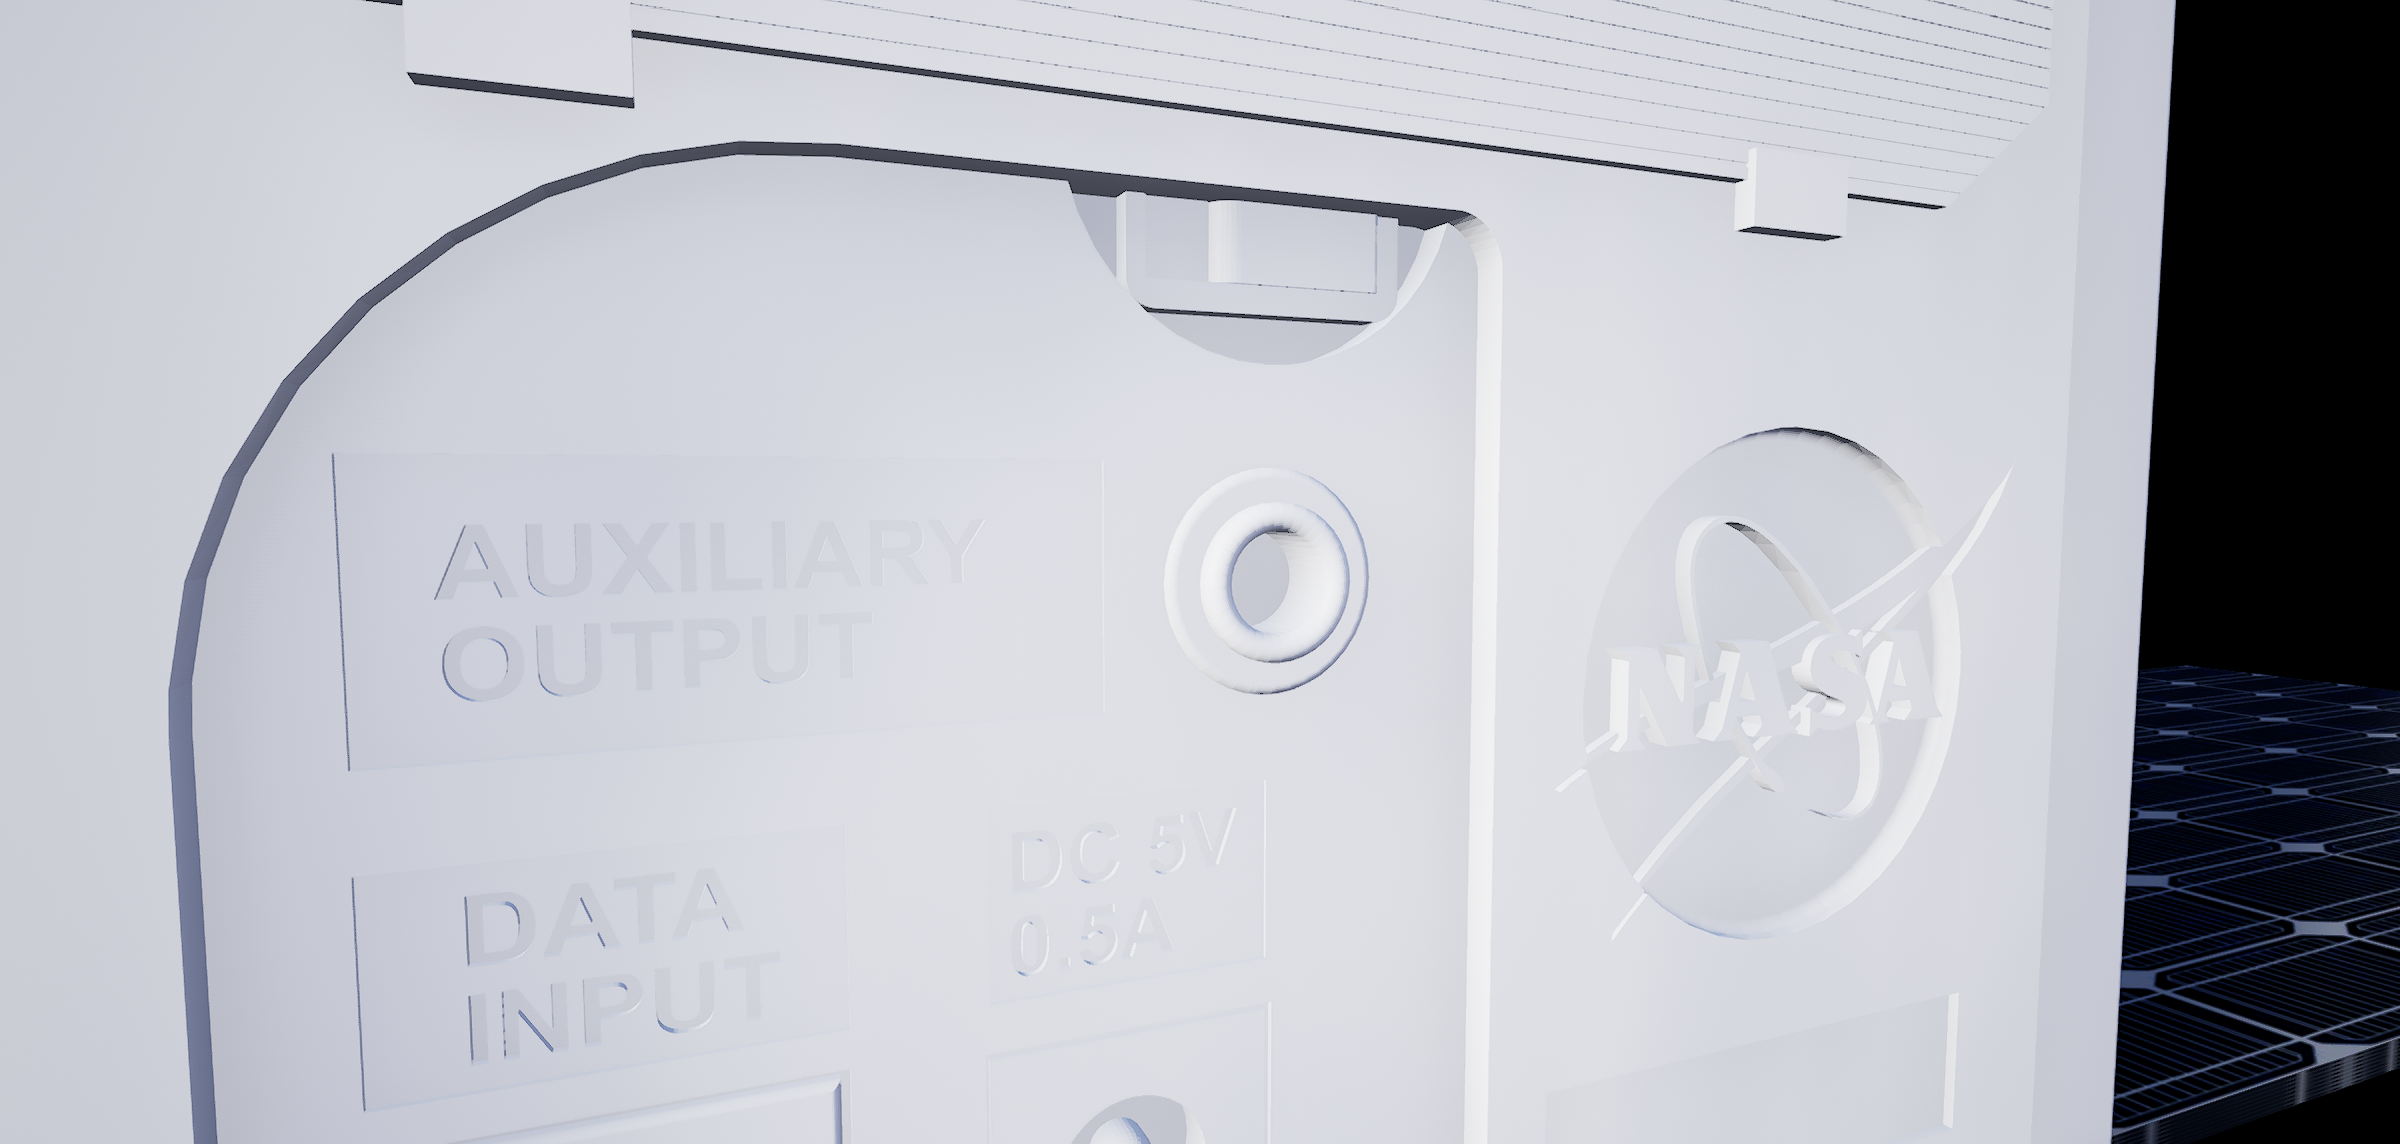aux: (1146, 467, 1396, 706)
dc: (1044, 1093, 1218, 1144)
